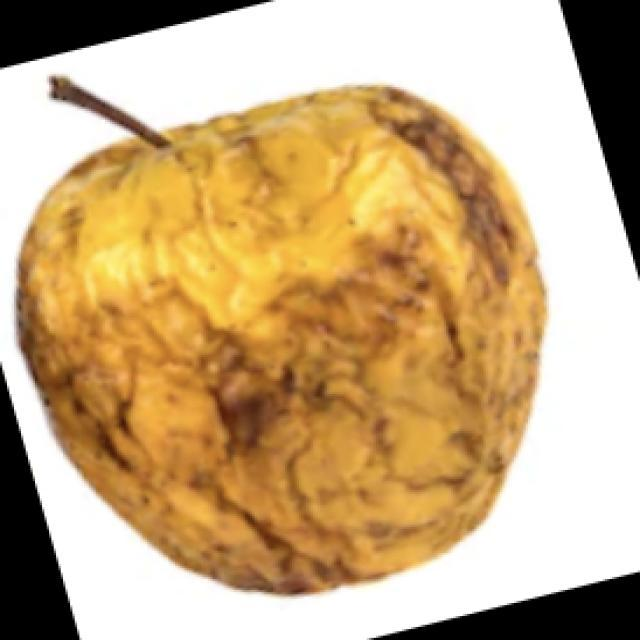Rotten: (42, 99, 540, 584)
